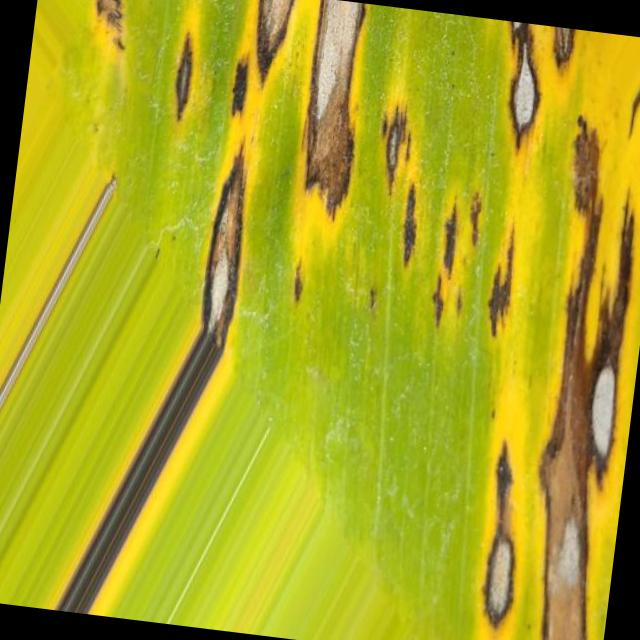Banana_Yellow_Sigatoka: (432, 44, 640, 640), (141, 0, 461, 234), (64, 272, 252, 628)
